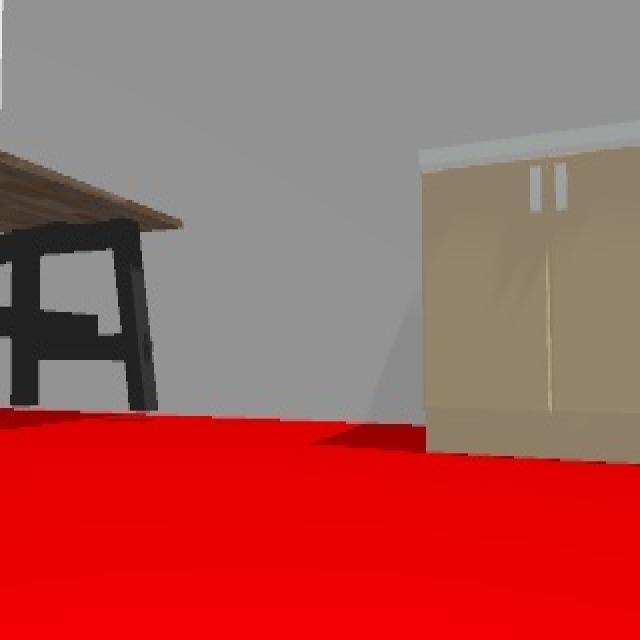dining: (2, 148, 184, 420)
